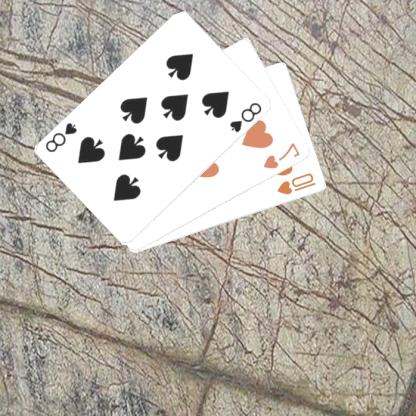10H: (276, 171, 319, 196)
7H: (262, 140, 304, 171)
8S: (45, 119, 81, 154), (229, 100, 265, 134)
